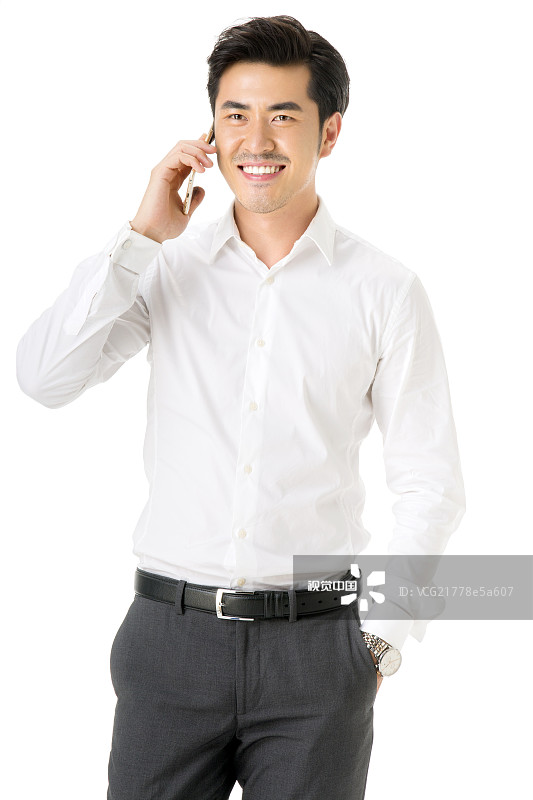calling: (122, 105, 226, 246)
